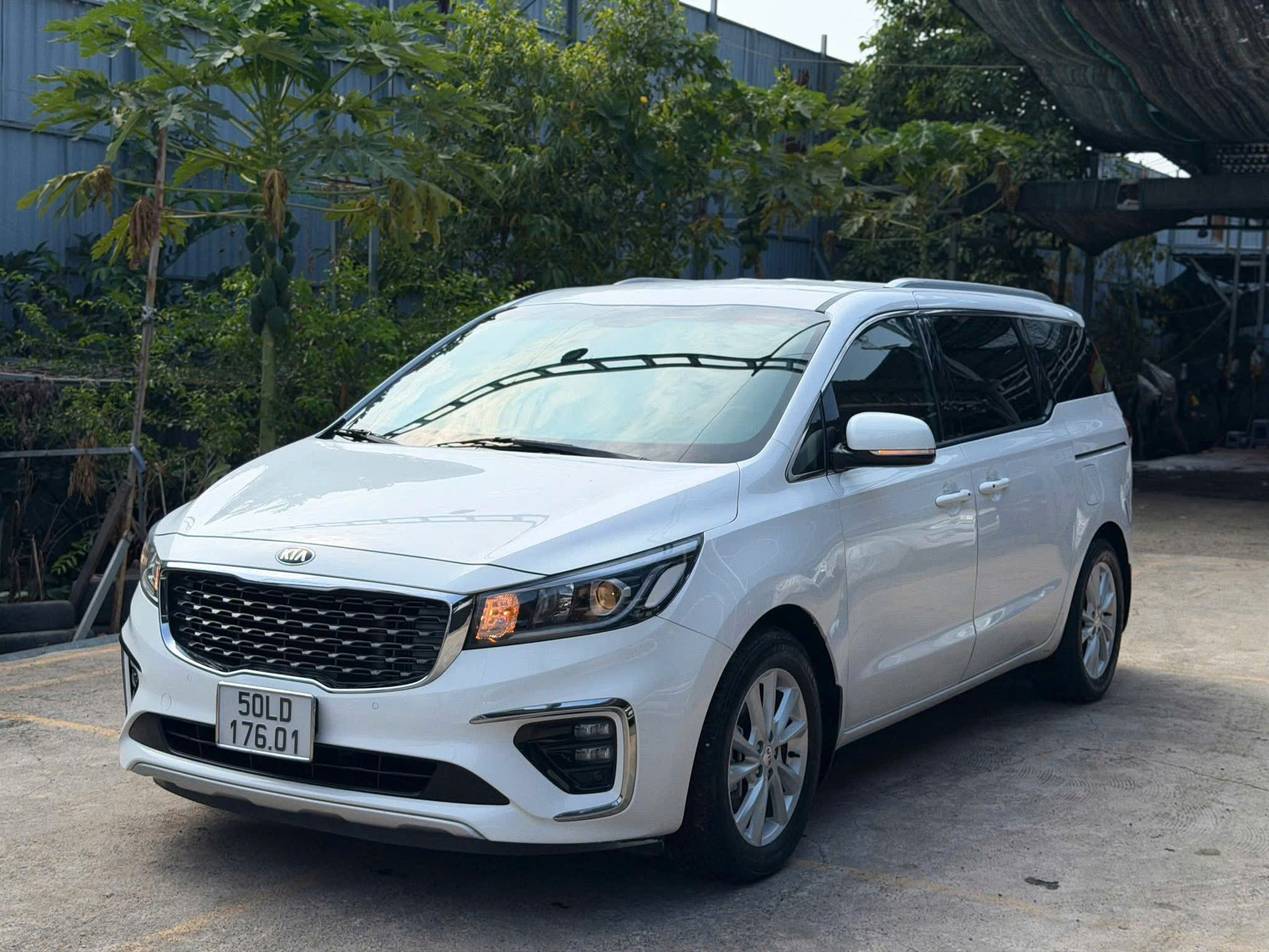Bien-so: (213, 684, 312, 763)
